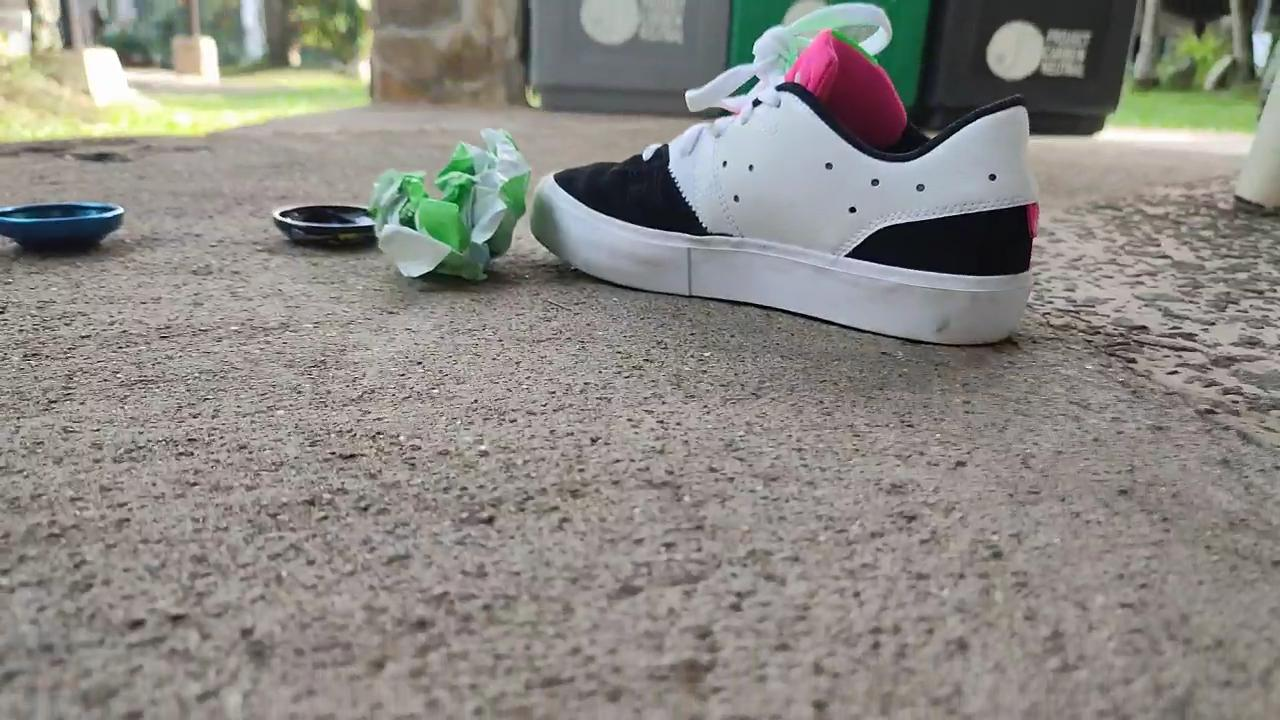Paper: (343, 108, 541, 312)
